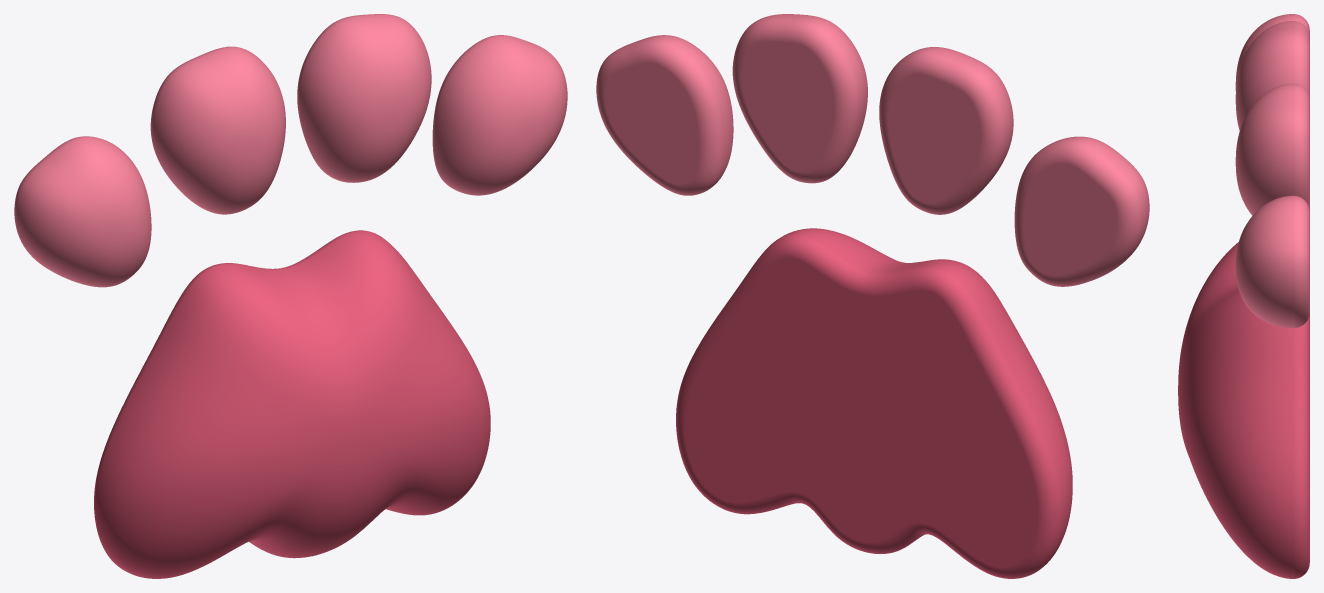
Rendered from cat-paw.glb.
3 views of the same model, side by side, from view 1: azimuth 30°, elevation 25°; view 2: azimuth 150°, elevation 25°; view 3: azimuth 270°, elevation 25° (orthographic). The views are drawn at different scales.
Visible parts, largest first — view 1: 掌球 / Metacarpal pad, RightInner toe pad, LeftInner toe pad, RightOuter toe pad, LeftOuter toe pad; view 2: 掌球 / Metacarpal pad, RightInner toe pad, LeftInner toe pad, RightOuter toe pad, LeftOuter toe pad; view 3: 掌球 / Metacarpal pad, RightOuter toe pad, RightInner toe pad, LeftInner toe pad, LeftOuter toe pad.
Boxes of the visible parts, x1,y1,x2,y2 form: 掌球 / Metacarpal pad: (94,230,490,578); RightInner toe pad: (297,14,431,182); LeftInner toe pad: (150,46,285,214); RightOuter toe pad: (432,35,567,195); LeftOuter toe pad: (14,136,151,287); 掌球 / Metacarpal pad: (676,228,1072,578); RightInner toe pad: (732,14,867,183); LeftInner toe pad: (879,47,1013,214); RightOuter toe pad: (596,35,733,195); LeftOuter toe pad: (1014,136,1149,286); 掌球 / Metacarpal pad: (1178,242,1309,578); RightOuter toe pad: (1235,195,1309,328); RightInner toe pad: (1235,83,1309,215); LeftInner toe pad: (1235,21,1309,130); LeftOuter toe pad: (1235,14,1309,90).
Size of the model in its own units: 0.0684 by 0.0619 by 0.016.
